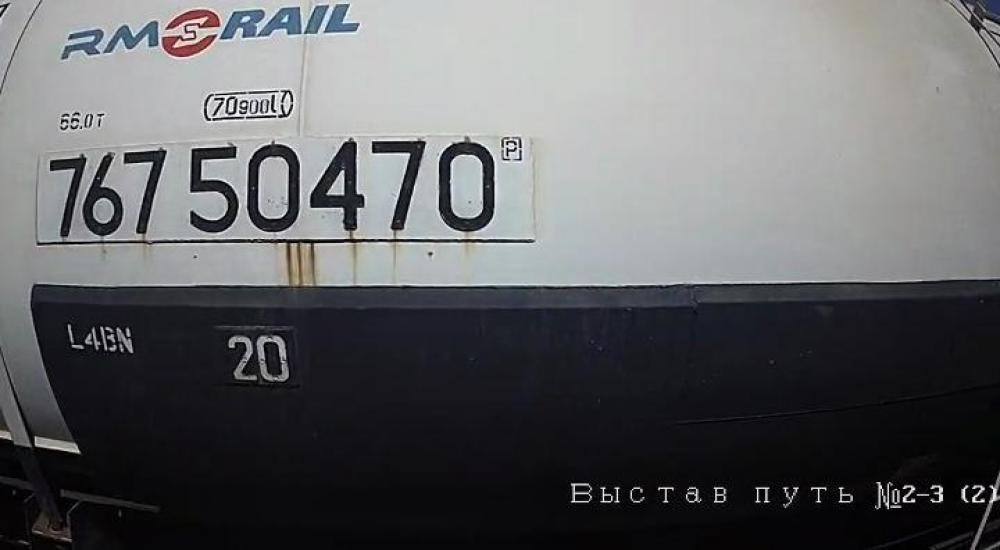Wagon-number: (43, 134, 499, 243)
